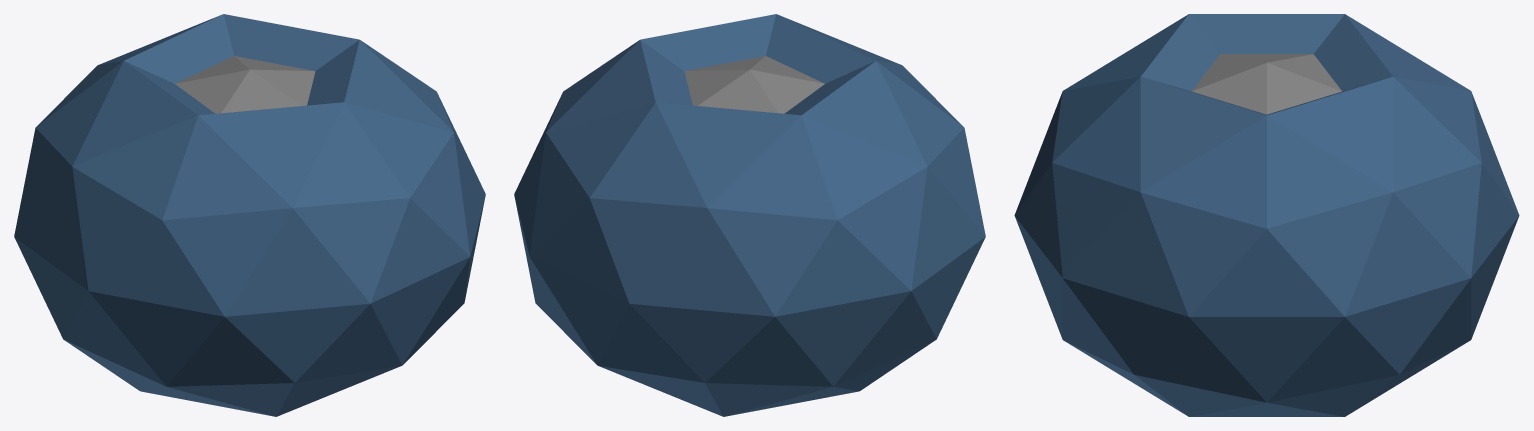
The model's file is Blueberry.fbx.
3 views of the same model, side by side, from view 1: azimuth 30°, elevation 25°; view 2: azimuth 150°, elevation 25°; view 3: azimuth 270°, elevation 25° (orthographic). The views are drawn at different scales.
Parts seen in each view (by area): view 1: Blueberry_LOD0; view 2: Blueberry_LOD0; view 3: Blueberry_LOD0.
Part boxes in pixels (bbox=[...]): Blueberry_LOD0: bbox=[14, 14, 485, 416]; Blueberry_LOD0: bbox=[514, 14, 985, 416]; Blueberry_LOD0: bbox=[1014, 14, 1519, 416].
Size of the model in its own units: 35.83 by 27.96 by 37.67.
